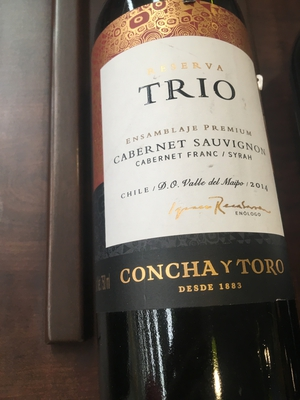trio cabernet sauvignon: (84, 4, 300, 353)
